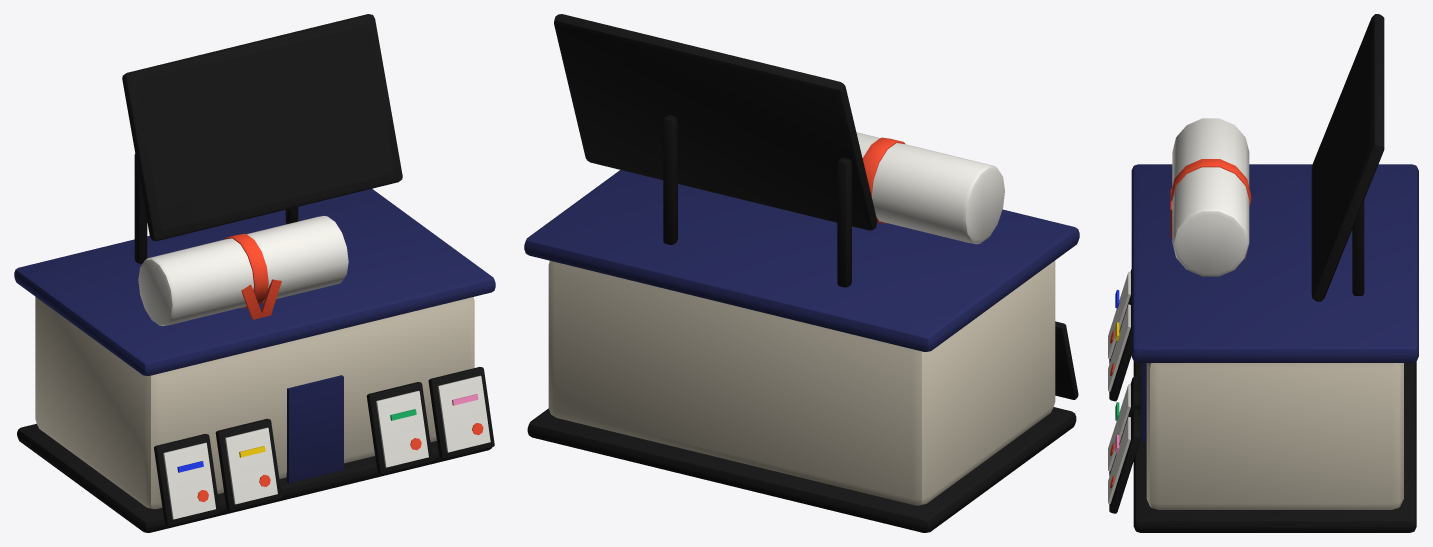
File: certificates.glb
3 renders of one model, left to right at view 1: azimuth 30°, elevation 25°; view 2: azimuth 150°, elevation 25°; view 3: azimuth 270°, elevation 25°, orthographic. The views are drawn at different scales.
Parts seen in each view (by area): view 1: certificates, screen; view 2: certificates; view 3: certificates, screen.
Boxes of the visible parts, box(x1,y1,x2,y2) form: certificates: box(14, 14, 495, 532); screen: box(136, 25, 395, 230); certificates: box(524, 14, 1079, 532); certificates: box(1108, 14, 1418, 532); screen: box(1313, 25, 1369, 286).
Bounding box in the file's own units: 5.15 × 4.97 × 3.62.
